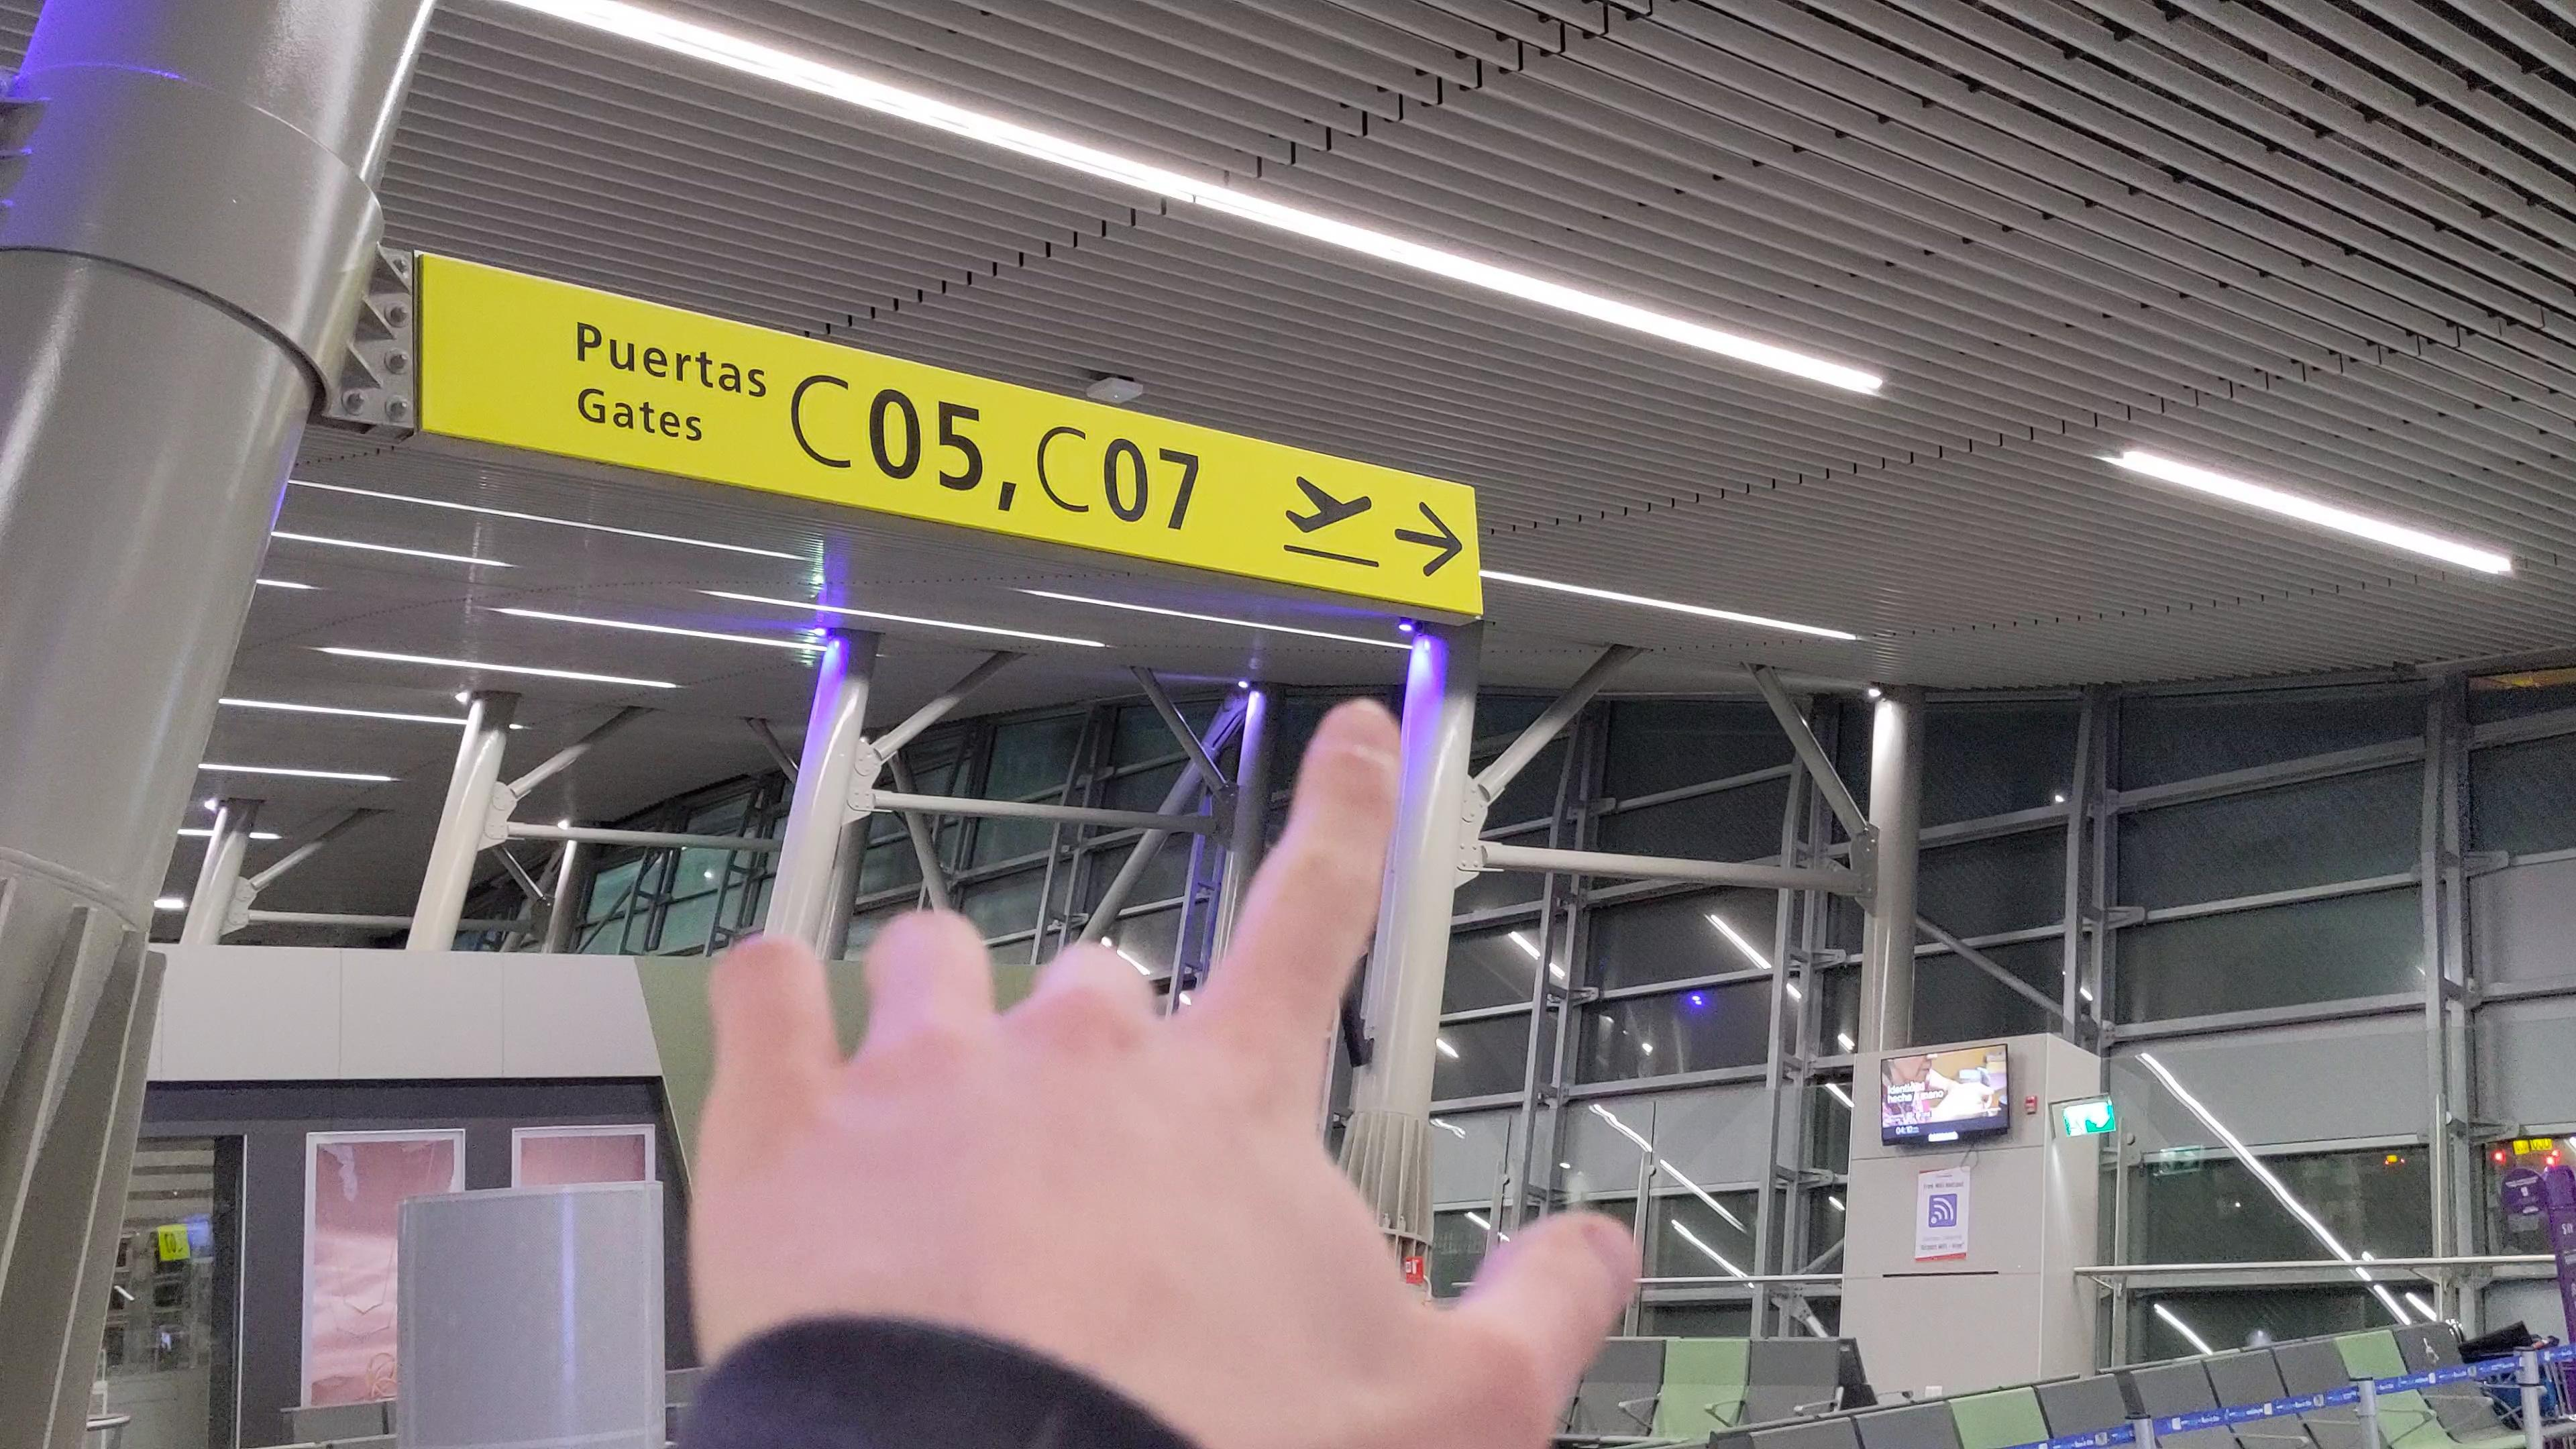airplane symbol: (1281, 469, 1380, 540)
thin right arrow: (1387, 495, 1467, 586)
